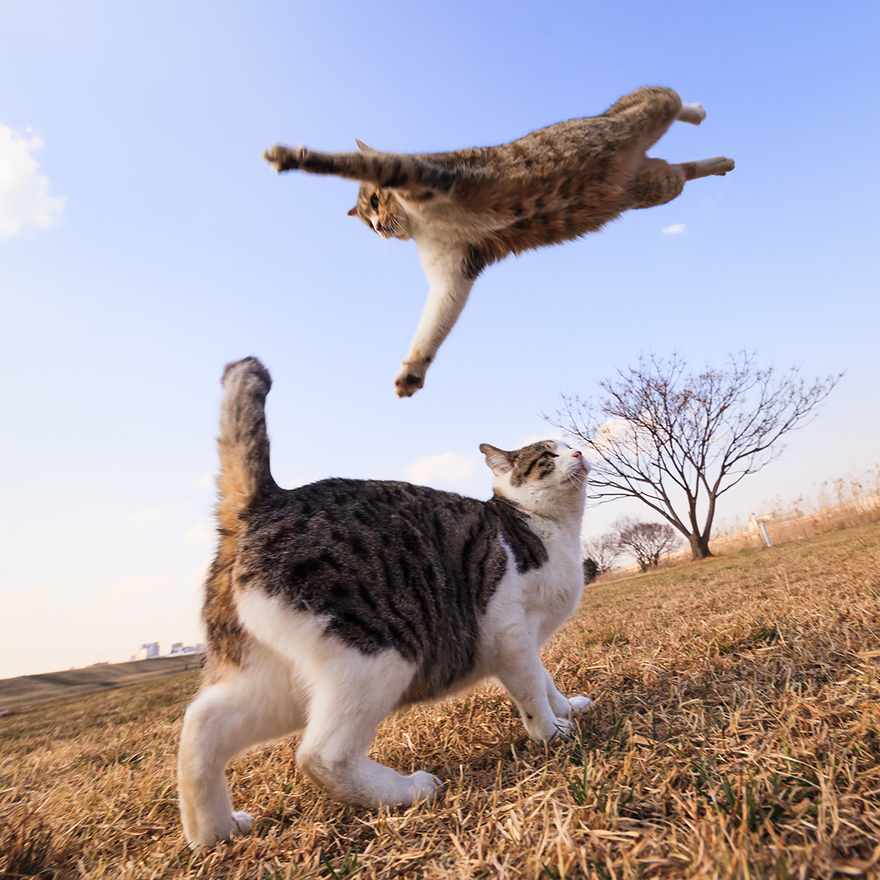cat: (162, 347, 633, 854), (256, 68, 788, 401)
